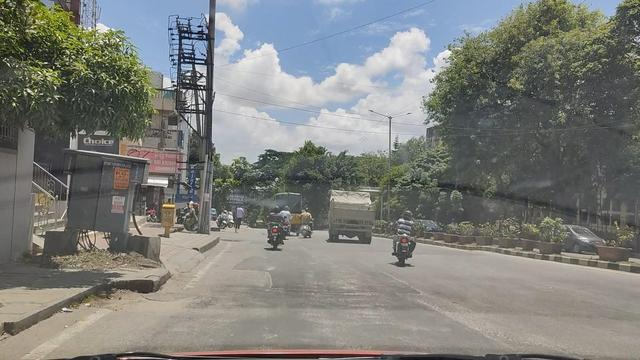HMV: (324, 187, 379, 246), (271, 191, 304, 236)
RoadDamages: (203, 255, 313, 296), (138, 290, 198, 316)
